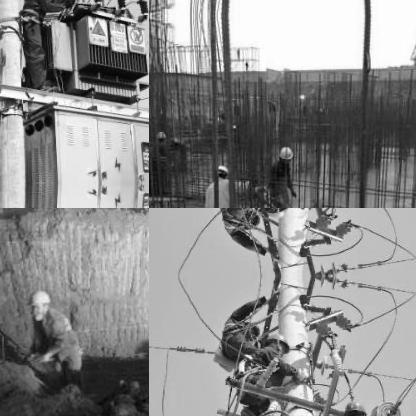Helmet: (26, 288, 50, 318), (262, 328, 286, 353), (340, 400, 371, 415), (277, 143, 295, 163), (262, 208, 287, 221), (212, 160, 230, 176), (152, 128, 164, 142)
